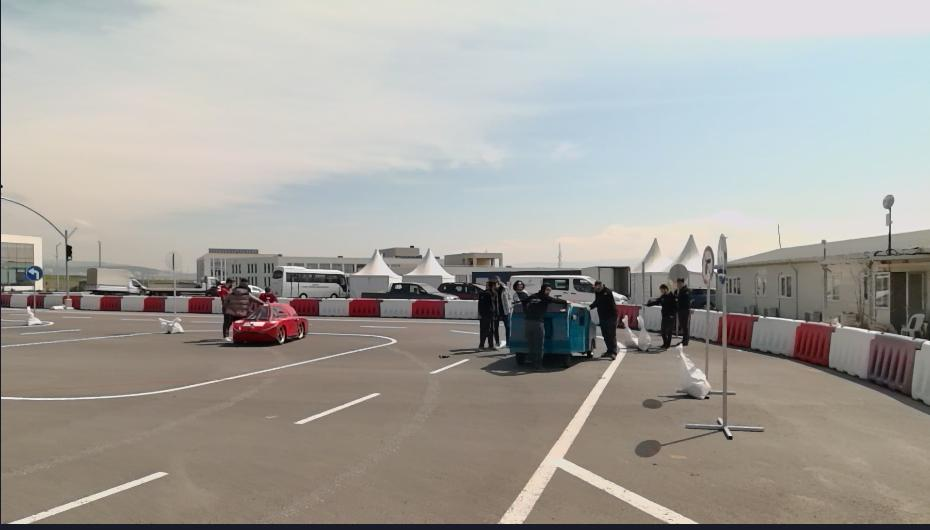nesne: (1, 313, 625, 523), (0, 341, 624, 524), (0, 316, 490, 529), (0, 330, 397, 399), (496, 340, 625, 524), (561, 457, 697, 525), (9, 469, 170, 526), (511, 282, 598, 371), (1, 196, 78, 245), (511, 275, 627, 306), (527, 283, 567, 370), (868, 330, 920, 396), (234, 302, 311, 344), (295, 389, 380, 424), (269, 266, 346, 297), (225, 276, 262, 340), (830, 324, 874, 377), (646, 280, 678, 350), (750, 314, 799, 358), (589, 281, 617, 357), (676, 345, 712, 400), (795, 319, 839, 364), (70, 294, 172, 312), (478, 277, 500, 350), (687, 415, 763, 436), (87, 266, 145, 292), (361, 282, 456, 297), (619, 313, 651, 352), (674, 277, 692, 346), (908, 343, 929, 401), (728, 311, 757, 351), (220, 277, 238, 339), (177, 274, 225, 297), (498, 277, 511, 350), (616, 303, 644, 332), (720, 284, 726, 418), (440, 280, 484, 298), (412, 297, 447, 319), (443, 299, 479, 320), (510, 277, 530, 314), (637, 305, 661, 334), (348, 297, 380, 318), (714, 230, 726, 286), (285, 298, 320, 317), (430, 356, 470, 372), (379, 299, 414, 316), (319, 298, 350, 317), (702, 246, 716, 282), (187, 295, 213, 314), (685, 310, 702, 339), (157, 317, 188, 332), (119, 295, 145, 312), (98, 293, 121, 311), (26, 306, 44, 327), (704, 278, 708, 372), (257, 284, 277, 302), (144, 295, 165, 312), (78, 295, 101, 310), (146, 281, 170, 295), (172, 253, 177, 318), (43, 294, 64, 309), (27, 265, 44, 282), (8, 294, 30, 307), (709, 313, 719, 341), (176, 296, 189, 314), (68, 295, 81, 311), (164, 295, 173, 313), (65, 259, 69, 298), (0, 293, 11, 307), (211, 297, 220, 314), (34, 281, 38, 315), (276, 294, 293, 301), (65, 245, 72, 259), (37, 295, 44, 308), (64, 297, 72, 308)
